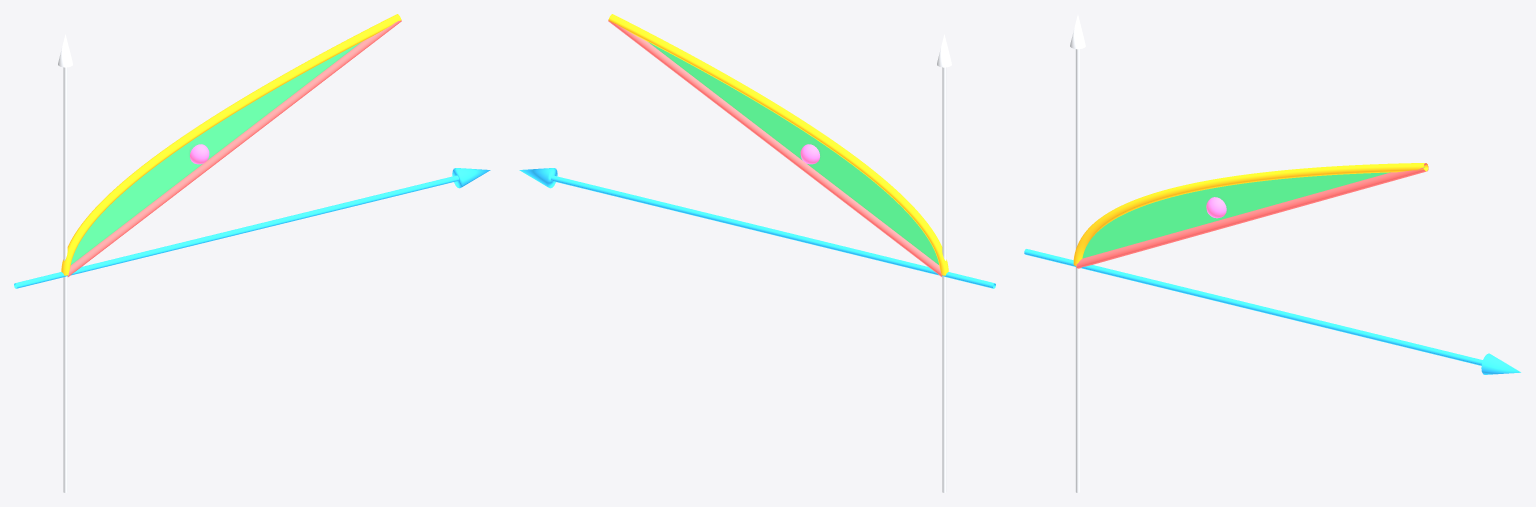
Rendered from peristrofi-gamma.glb.
3 views of the same model, side by side, from view 1: azimuth 30°, elevation 25°; view 2: azimuth 150°, elevation 25°; view 3: azimuth 330°, elevation 25° (orthographic). The views are drawn at different scales.
Visible parts, largest first — view 1: chorio, axonas_x, axonas_y; view 2: chorio, axonas_x, axonas_y; view 3: chorio, axonas_x, axonas_y.
Part boxes in pixels (x1,y1,x2,y2): chorio: (61, 14, 401, 276); axonas_x: (14, 168, 490, 288); axonas_y: (58, 34, 72, 492); chorio: (608, 14, 948, 276); axonas_x: (519, 168, 995, 288); axonas_y: (937, 34, 951, 492); chorio: (1073, 163, 1428, 268); axonas_x: (1024, 249, 1520, 374); axonas_y: (1070, 15, 1085, 492).
Size of what is drawn, in the model's own units: 0.342 by 0.315 by 0.0132.
